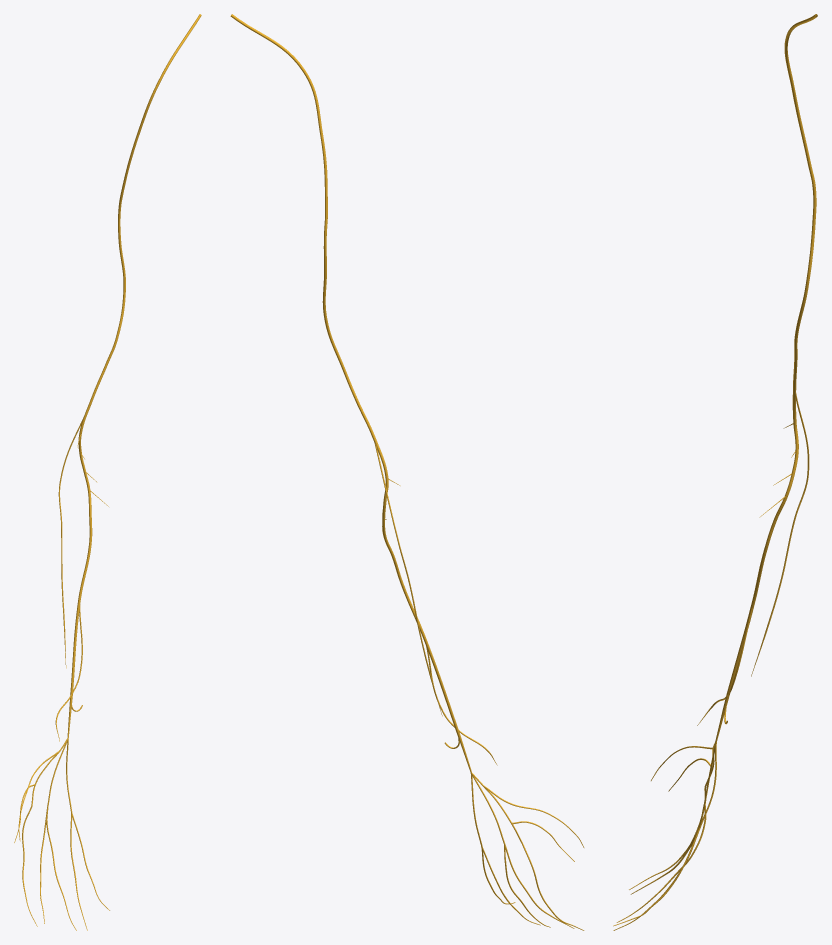
The model's file is nervoso-median-nerve-r.glb.
The picture shows the model from 3 angles, left to right: view 1: azimuth 30°, elevation 25°; view 2: azimuth 150°, elevation 25°; view 3: azimuth 270°, elevation 25°; orthographic projection. The views are drawn at different scales.
Parts seen in each view (by area): view 1: Median nerve.r, Proper palmar digital branches of median nerve.r, Anterior interosseous nerve of forearm.r, Common palmar digital branches of median nerve.r; view 2: Median nerve.r, Proper palmar digital branches of median nerve.r; view 3: Median nerve.r, Proper palmar digital branches of median nerve.r, Anterior interosseous nerve of forearm.r.
Part boxes in pixels (left/top/right/bottom): Median nerve.r: left=67, top=14, right=201, bottom=738; Proper palmar digital branches of median nerve.r: left=14, top=750, right=109, bottom=930; Anterior interosseous nerve of forearm.r: left=58, top=419, right=82, bottom=668; Common palmar digital branches of median nerve.r: left=31, top=738, right=72, bottom=812; Median nerve.r: left=230, top=14, right=471, bottom=773; Proper palmar digital branches of median nerve.r: left=481, top=785, right=584, bottom=930; Median nerve.r: left=715, top=14, right=817, bottom=742; Proper palmar digital branches of median nerve.r: left=613, top=746, right=712, bottom=930; Anterior interosseous nerve of forearm.r: left=751, top=392, right=809, bottom=676.
Bounding box in the file's own units: 0.2184 × 0.6882 × 0.1232.
